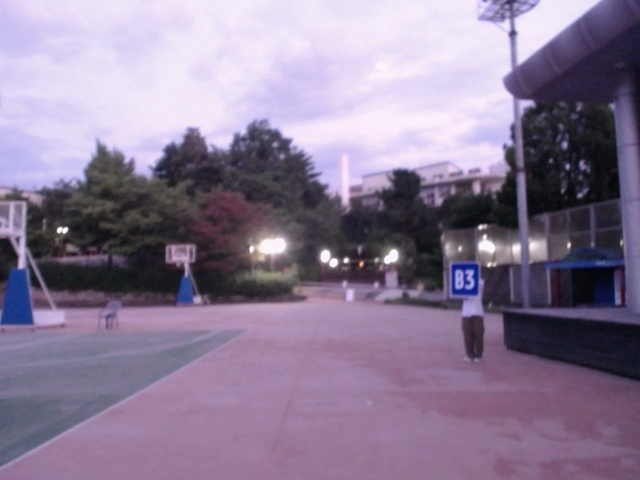delivery_b3: (451, 263, 479, 295)
